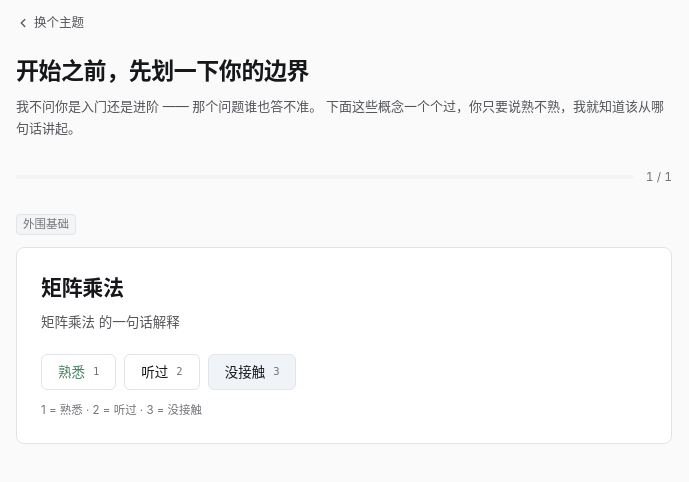
it: CalibratePage › 中途失败也用已经到手的几道继续，不浪费
Expected: the text "矩阵乘法" is shown, [41,275,124,300]
Click the text "听过" at (155, 372), box [141,362,168,382]
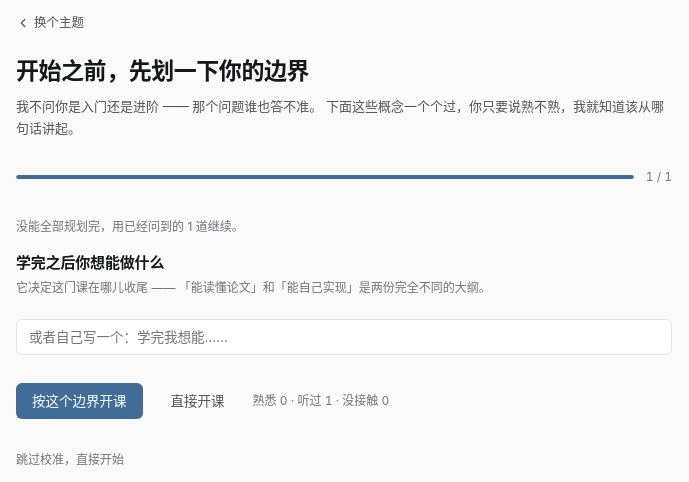
Result: the text "没能全部规划完，用已经问到的 1 道继续。" is shown at [16,219,244,234]
